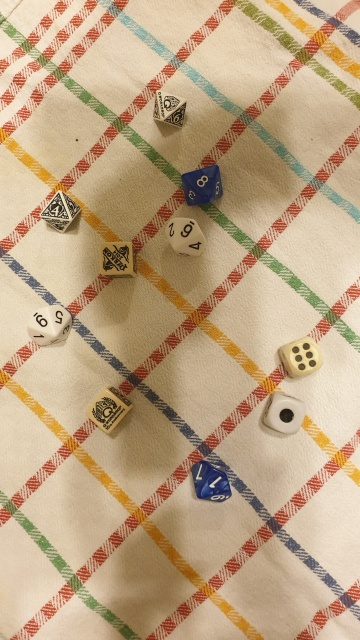d10-1: (185, 452, 236, 508)
d10-6: (160, 212, 210, 262)
d10-8: (173, 157, 226, 213)
d10-9: (21, 303, 77, 348)
d6-1: (260, 390, 308, 438)
d6-6: (273, 333, 322, 380)
d6p-1: (94, 236, 140, 283)
d6p-6: (80, 383, 133, 440)
d8p-4: (37, 185, 81, 237)
d8p-8: (142, 86, 192, 131)
